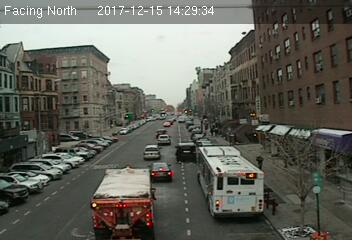bus: (194, 146, 264, 222)
car: (147, 162, 174, 180), (174, 143, 196, 161), (143, 145, 161, 160), (157, 135, 171, 144)
truck: (92, 165, 157, 240)
